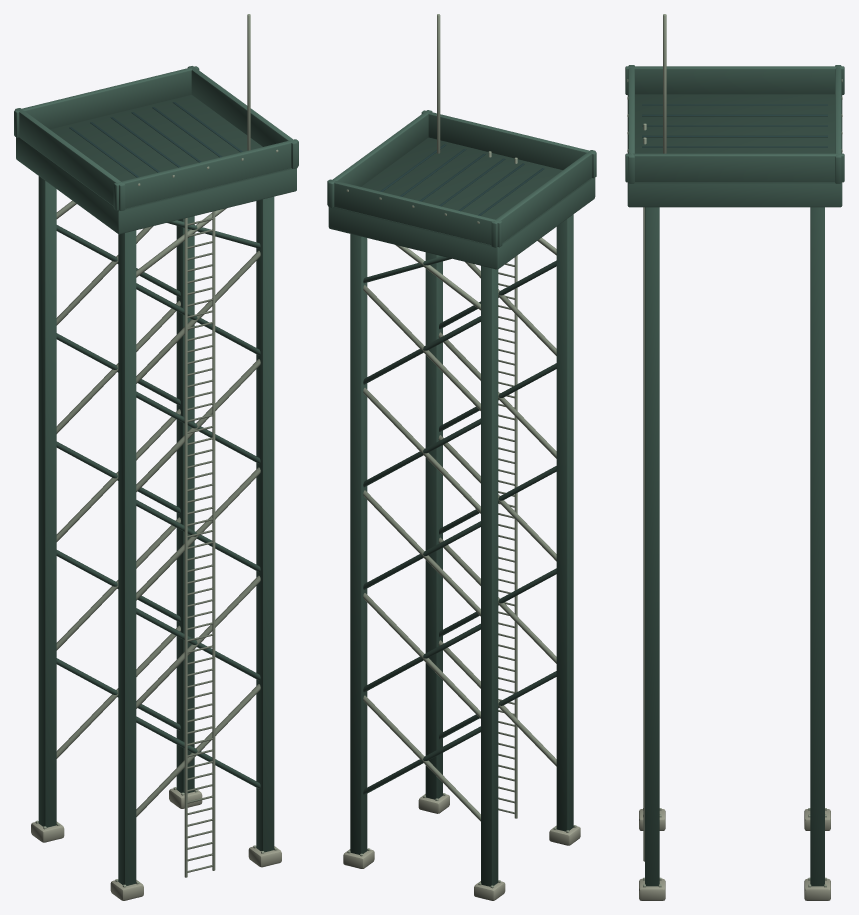
The model's file is kf-tower-19.glb.
The picture shows the model from 3 angles, left to right: view 1: azimuth 30°, elevation 25°; view 2: azimuth 150°, elevation 25°; view 3: azimuth 270°, elevation 25°; orthographic projection. The views are drawn at different scales.
Visible parts, largest first — view 1: Watchtower Tower paint, Watchtower Tower fittings, Watchtower Concrete feet, Watchtower Tread panels; view 2: Watchtower Tower paint, Watchtower Tower fittings, Watchtower Concrete feet, Watchtower Tread panels; view 3: Watchtower Tower paint, Watchtower Tread panels, Watchtower Tower fittings, Watchtower Concrete feet.
Part boxes in pixels (<box>): Watchtower Tower paint: <box>14,66,298,885</box>; Watchtower Tower fittings: <box>35,14,278,887</box>; Watchtower Concrete feet: <box>31,788,281,900</box>; Watchtower Tread panels: <box>69,102,242,177</box>; Watchtower Tower paint: <box>327,110,596,886</box>; Watchtower Tower fittings: <box>346,14,576,888</box>; Watchtower Concrete feet: <box>343,794,580,900</box>; Watchtower Tread panels: <box>380,144,544,215</box>; Watchtower Tower paint: <box>625,65,844,886</box>; Watchtower Tread panels: <box>642,104,827,147</box>; Watchtower Tower fittings: <box>627,14,842,887</box>; Watchtower Concrete feet: <box>639,809,830,900</box>.
Size of the model in its own units: 5.3 by 23.4 by 5.3.
